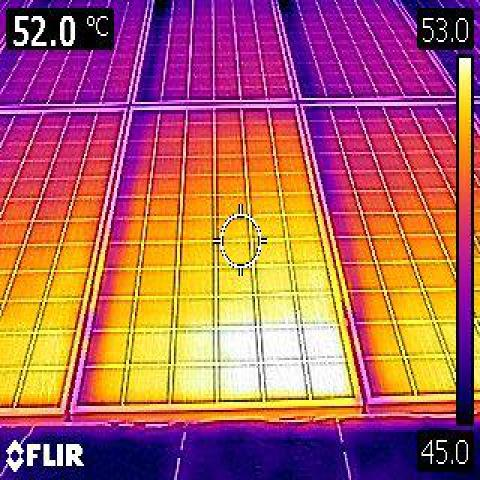fault: (215, 319, 350, 397)
